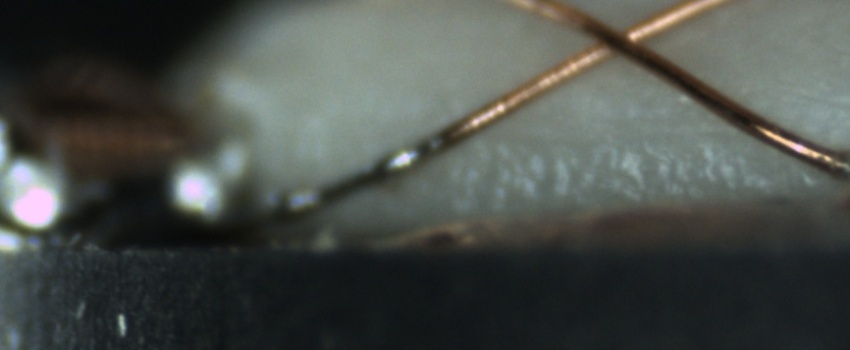CL: (569, 6, 663, 69)
DL: (486, 104, 765, 167)
TS: (258, 131, 446, 224)
TTCW: (275, 69, 541, 218)
